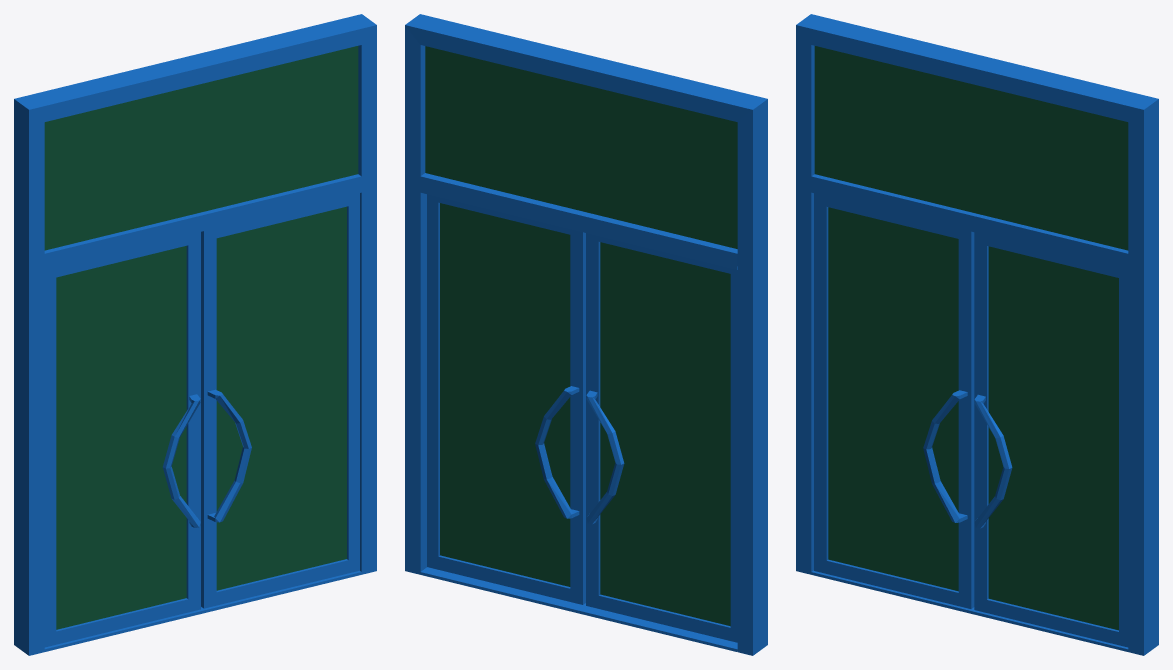
Rendered from T_main_entrance.fbx.
The picture shows the model from 3 angles, left to right: view 1: azimuth 30°, elevation 25°; view 2: azimuth 150°, elevation 25°; view 3: azimuth 330°, elevation 25°; orthographic projection.
Parts seen in each view (by area): view 1: main_entrance, door2_1_2, door2_1; view 2: main_entrance, door2_1_2, door2_1; view 3: main_entrance, door2_1, door2_1_2.
Boxes of the visible parts, <box> form: main_entrance: <box>14,14,376,655</box>; door2_1_2: <box>201,193,359,608</box>; door2_1: <box>44,232,200,647</box>; main_entrance: <box>405,14,767,655</box>; door2_1_2: <box>427,194,585,604</box>; door2_1: <box>586,233,737,642</box>; main_entrance: <box>796,14,1158,655</box>; door2_1: <box>814,193,974,608</box>; door2_1_2: <box>974,232,1128,647</box>.
Bounding box in the file's own units: 200 × 300 × 20.88.
